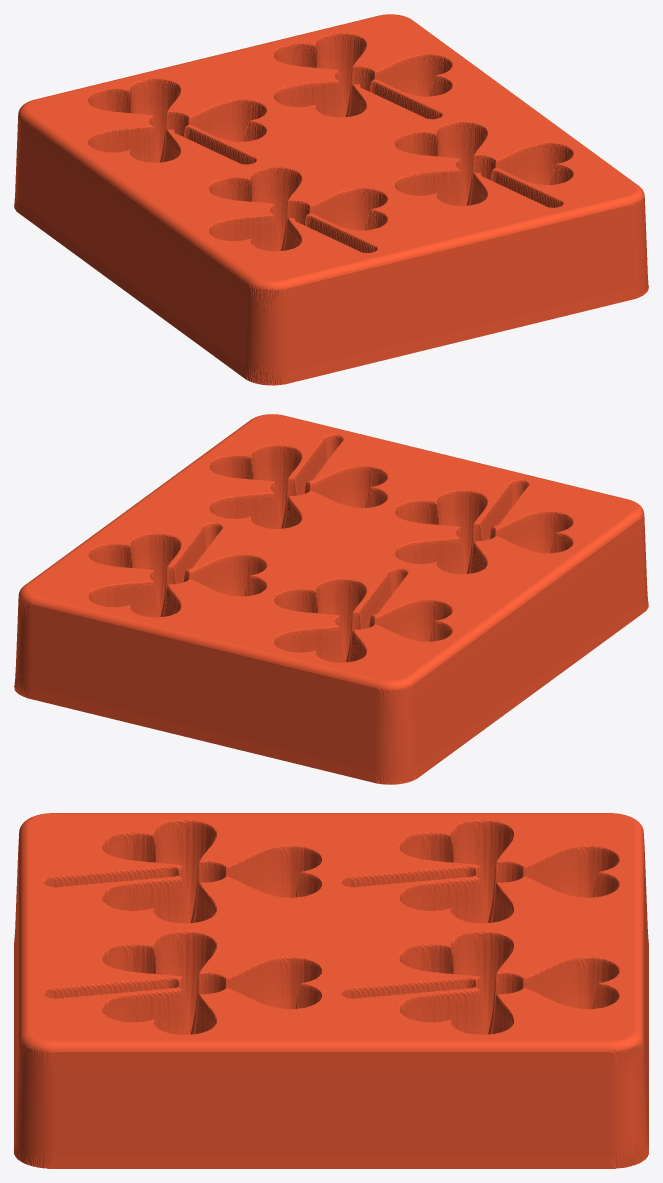
File: mold.glb
3 views of the same model, one above another, from view 1: azimuth 30°, elevation 25°; view 2: azimuth 150°, elevation 25°; view 3: azimuth 270°, elevation 25° (orthographic). The views are drawn at different scales.
Parts seen in each view (by area): view 1: geometry_0; view 2: geometry_0; view 3: geometry_0.
Boxes of the visible parts, x1=… form: geometry_0: x1=14, y1=14, x2=648, y2=385; geometry_0: x1=14, y1=414, x2=648, y2=784; geometry_0: x1=14, y1=813, x2=648, y2=1168.
Bounding box in the file's own units: 0.131 × 0.031 × 0.1466.
